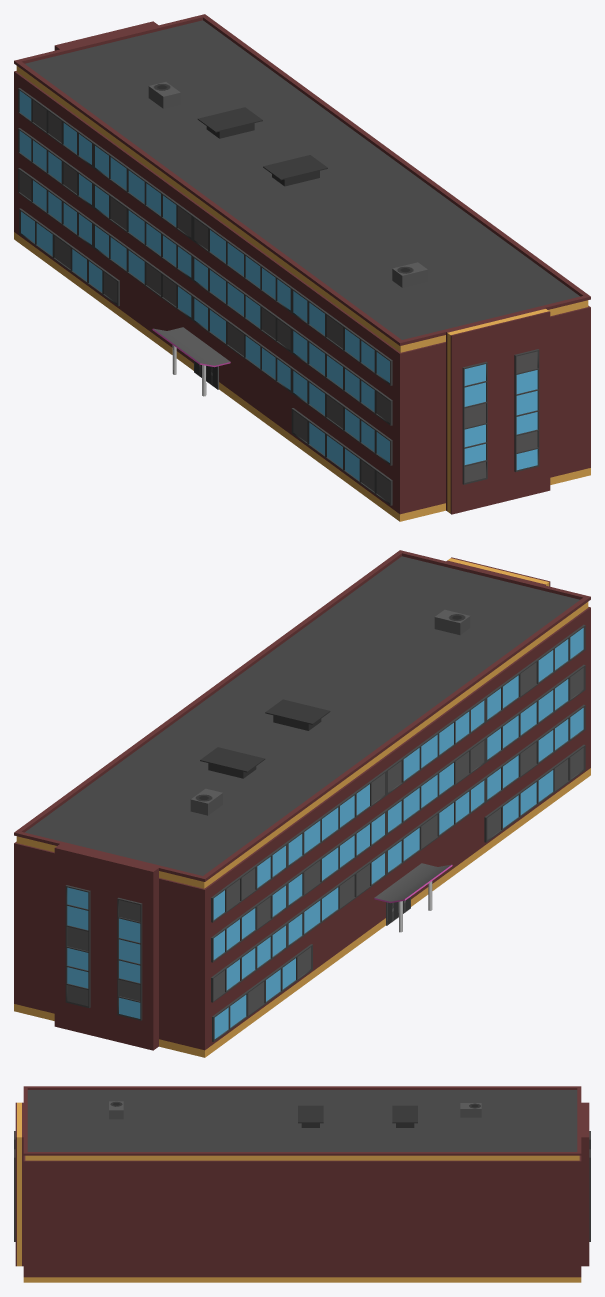
Rendered from building j 2.FBX.
The picture shows the model from 3 angles, top to bottom: view 1: azimuth 30°, elevation 25°; view 2: azimuth 150°, elevation 25°; view 3: azimuth 270°, elevation 25°; orthographic projection. The views are drawn at different scales.
Visible parts, largest first — view 1: Box291; view 2: Box291; view 3: Box291.
Boxes of the visible parts, x1=… form: Box291: x1=14, y1=14, x2=590, y2=521; Box291: x1=14, y1=550, x2=590, y2=1057; Box291: x1=14, y1=1086, x2=590, y2=1282.
Size of the model in its own units: 59.05 by 47.78 by 184.
1 material, 1 textured.
